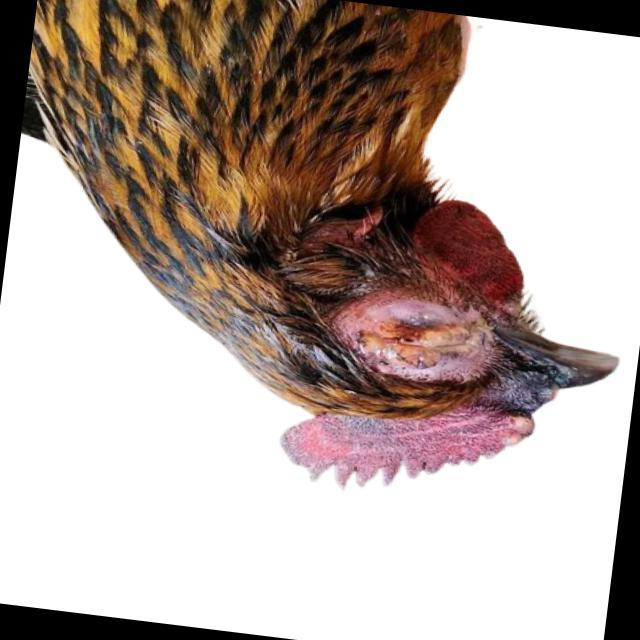Coryza: (304, 278, 498, 396)
